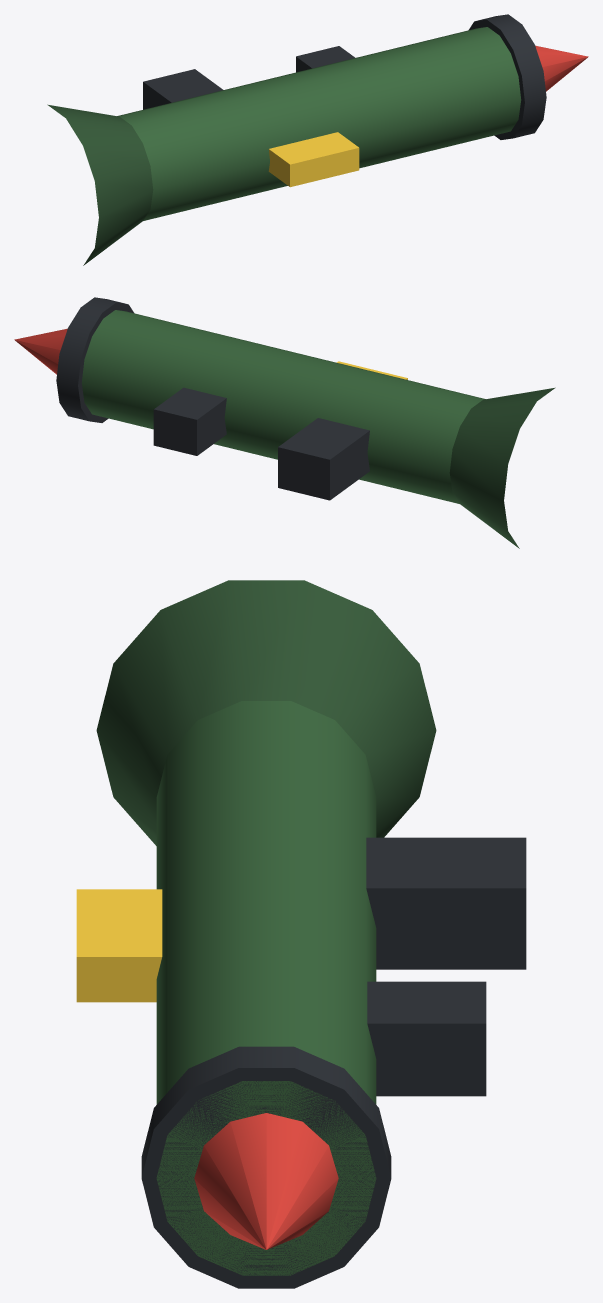
Rendered from bazooka.glb.
3 views of the same model, one above another, from view 1: azimuth 30°, elevation 25°; view 2: azimuth 150°, elevation 25°; view 3: azimuth 270°, elevation 25° (orthographic). The views are drawn at different scales.
Parts seen in each view (by area): view 1: Tube, Blast, MuzzleRing, Sight, Bazooka, Warhead; view 2: Tube, Bazooka, Blast, MuzzleRing, Warhead; view 3: Tube, Blast, Bazooka, MuzzleRing, Warhead, Sight.
Boxes of the visible parts, left/top/right/bottom form: Tube: left=117, top=27, right=521, bottom=220; Blast: left=47, top=104, right=153, bottom=265; MuzzleRing: left=469, top=14, right=546, bottom=139; Sight: left=268, top=132, right=359, bottom=187; Bazooka: left=143, top=46, right=355, bottom=109; Warhead: left=535, top=45, right=588, bottom=91; Tube: left=81, top=310, right=485, bottom=503; Bazooka: left=153, top=387, right=369, bottom=500; Blast: left=449, top=387, right=555, bottom=548; MuzzleRing: left=56, top=297, right=133, bottom=422; Warhead: left=14, top=328, right=67, bottom=374; Tube: left=156, top=701, right=376, bottom=1275; Blast: left=96, top=580, right=436, bottom=845; Bazooka: left=366, top=837, right=526, bottom=1096; MuzzleRing: left=141, top=1046, right=391, bottom=1288; Warhead: left=194, top=1113, right=338, bottom=1249; Sight: left=76, top=889, right=162, bottom=1002.
Bounding box in the file's own units: 1.23 × 0.3315 × 0.45.
